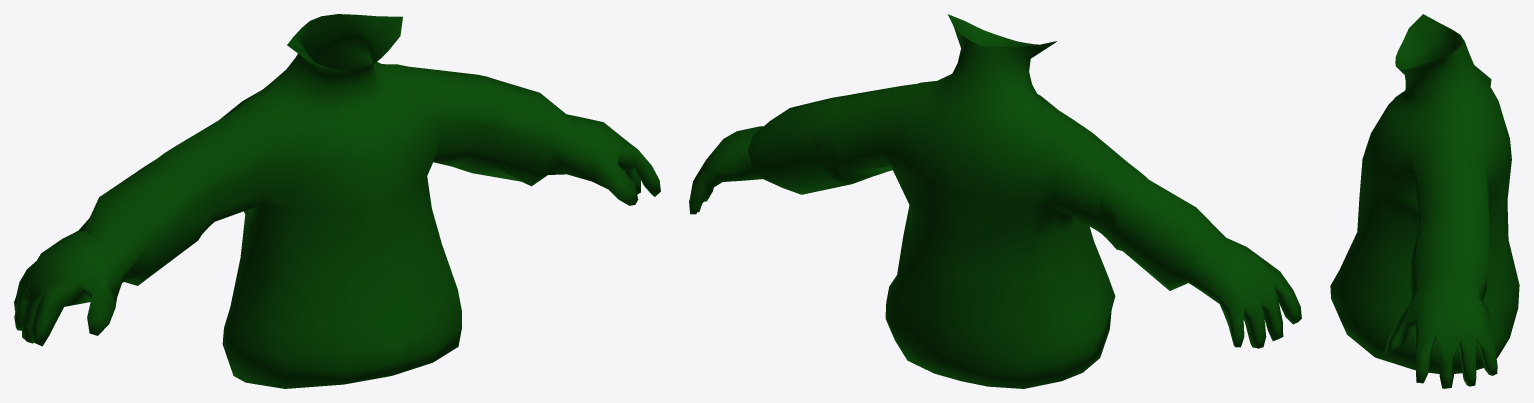
File: cloth_top_l.fbx
3 renders of one model, left to right at view 1: azimuth 30°, elevation 25°; view 2: azimuth 150°, elevation 25°; view 3: azimuth 270°, elevation 25°, orthographic. The views are drawn at different scales.
Visible parts, largest first — view 1: body_l; view 2: body_l; view 3: body_l.
Part boxes in pixels (x1=…): body_l: x1=14, y1=14, x2=660, y2=388; body_l: x1=689, y1=14, x2=1301, y2=388; body_l: x1=1330, y1=14, x2=1519, y2=388.
Size of the model in its own units: 142 by 74.23 by 42.
